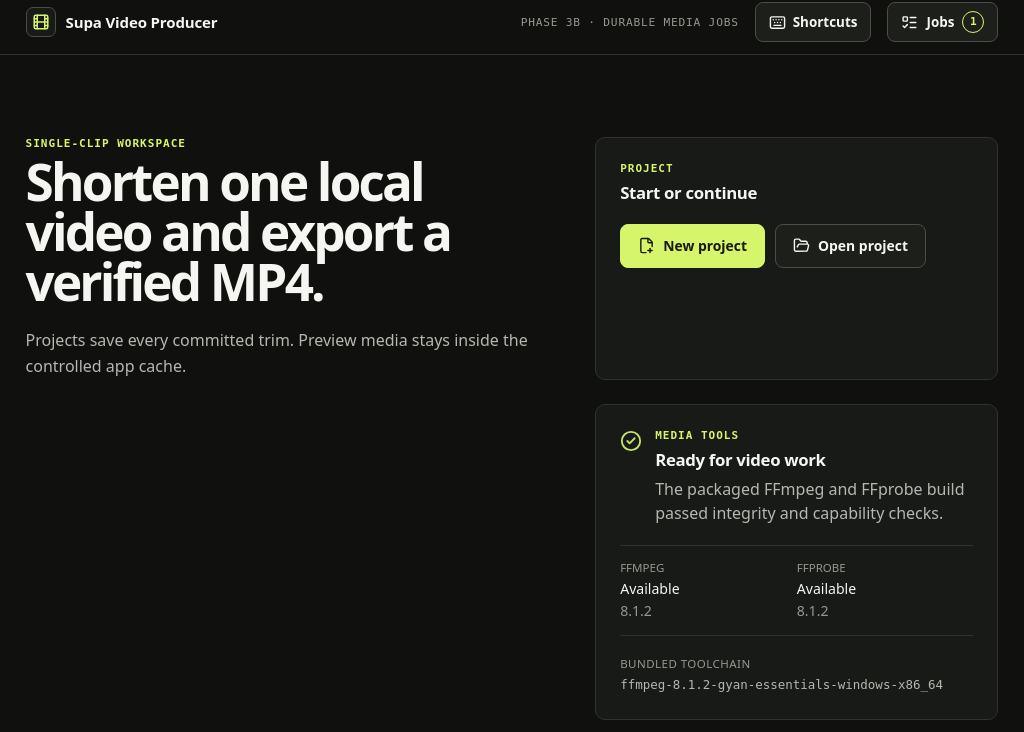
complete mocked Phase 2 workflow › refreshes and disables media actions after video_start_render reports tool_unavailable
Check: the heading "Ready for video work" is shown, box [655,448,826,471]
Click the button "New project": (693, 246) [620,224,765,268]
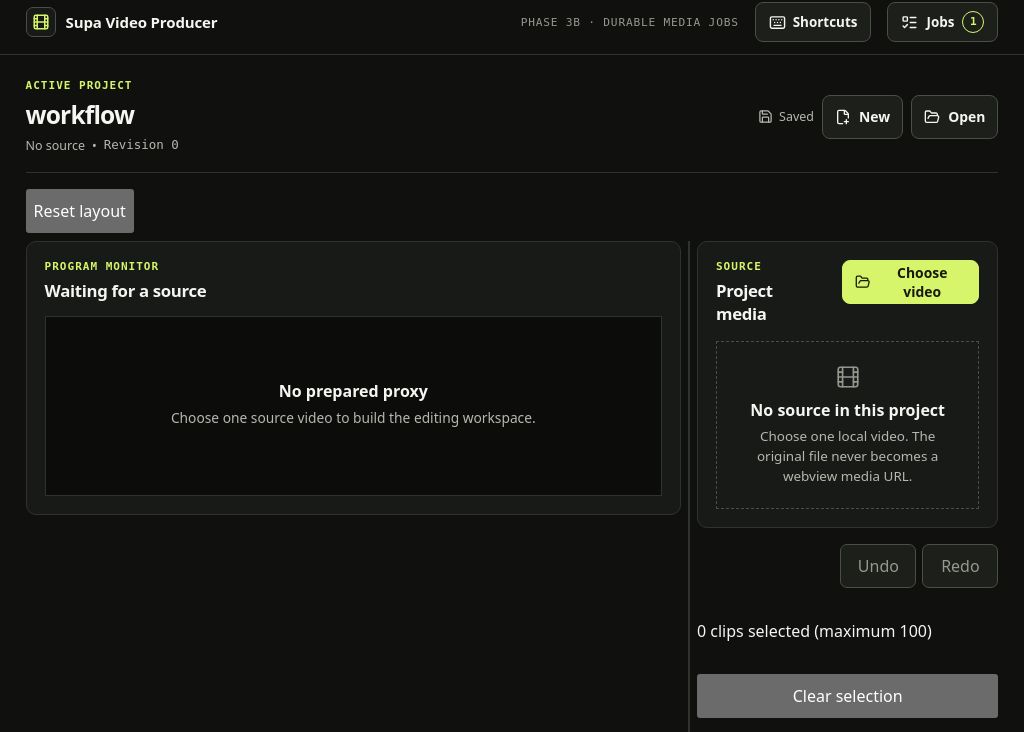
Check: the heading "Project media" is shown, box [716,279,773,325]
Click the button "Choose video": (910, 282) [842,260,979,304]
(page scrolled)
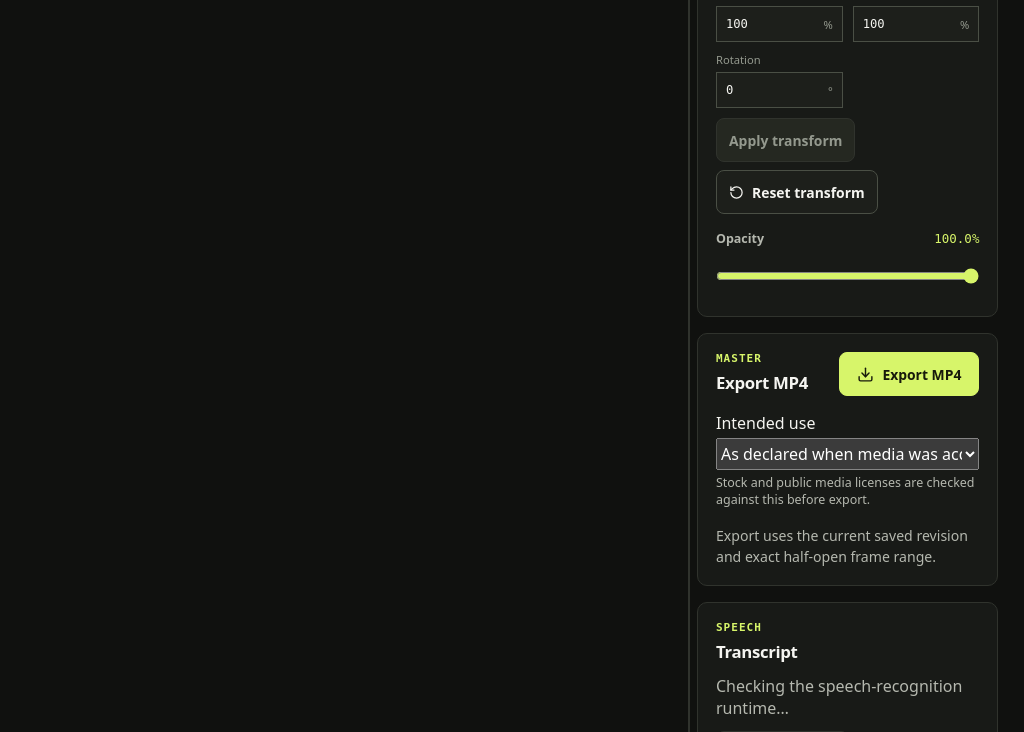
Click the button "Export MP4": (909, 374) [839,352,979,396]
(page scrolled)
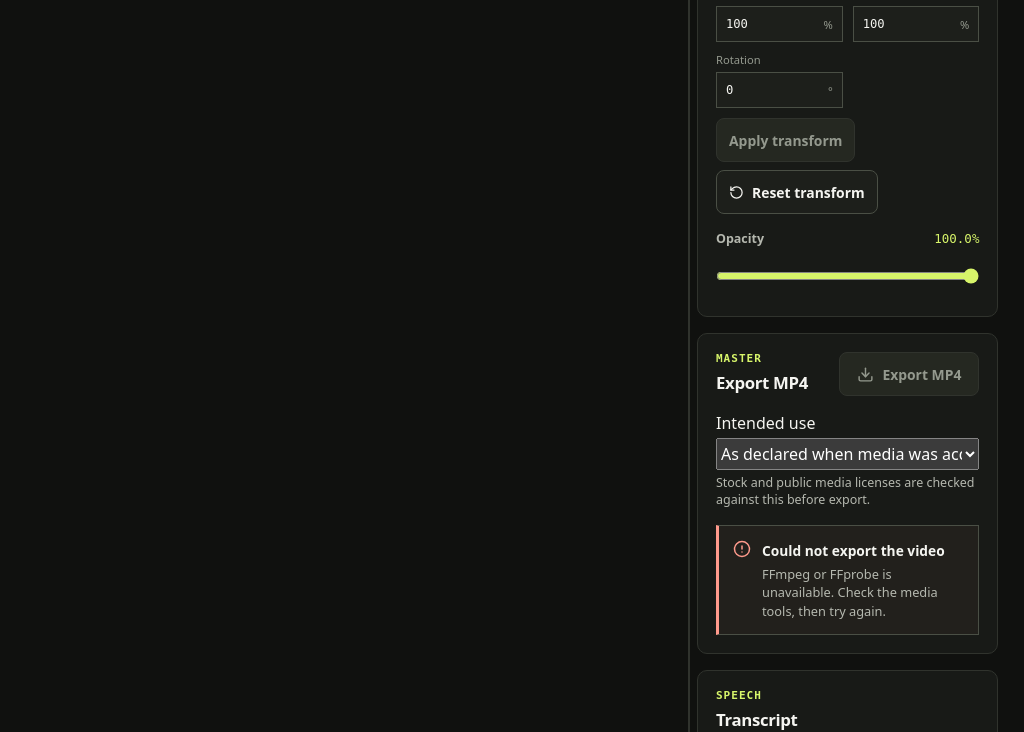
Check: the button "Export MP4" is disabled, box [839,352,979,396]
